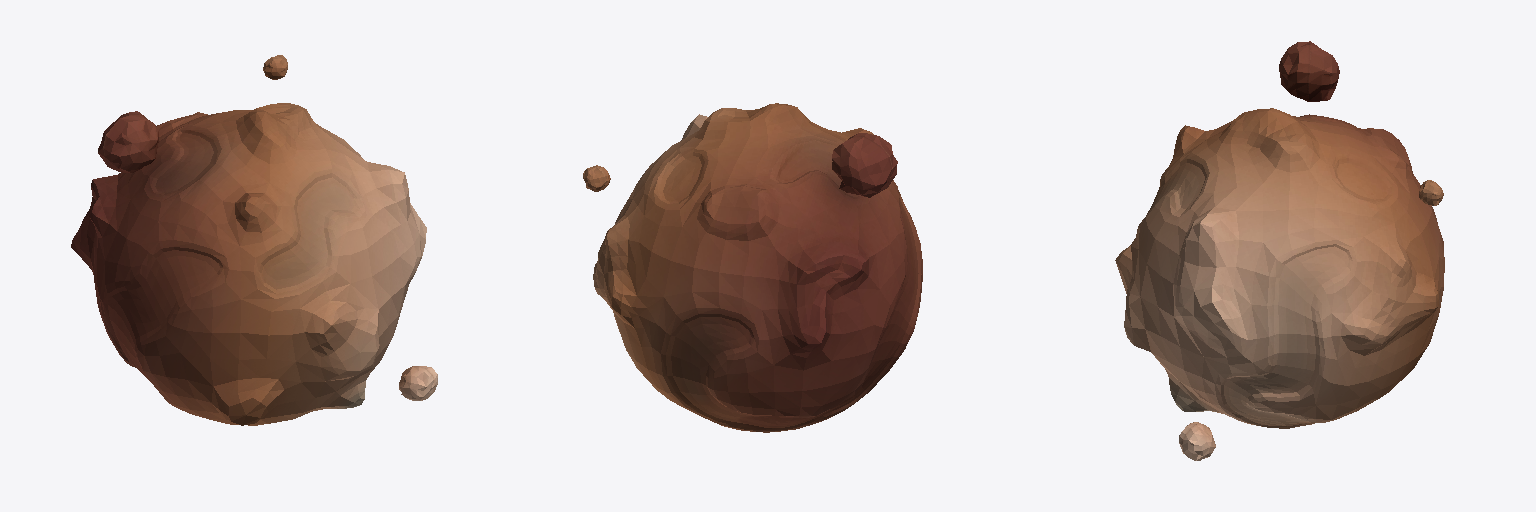
3 renders of one model, left to right at view 1: azimuth 30°, elevation 25°; view 2: azimuth 150°, elevation 25°; view 3: azimuth 270°, elevation 25°, orthographic.
Visible parts, largest first — view 1: RockPlanet; view 2: RockPlanet; view 3: RockPlanet.
Part boxes in pixels (left/top/right/bottom): RockPlanet: left=71, top=55, right=437, bottom=425; RockPlanet: left=583, top=103, right=922, bottom=432; RockPlanet: left=1115, top=41, right=1444, bottom=460.
Bounding box in the file's own units: 141 × 153 × 145.
1 materials, 1 textured.